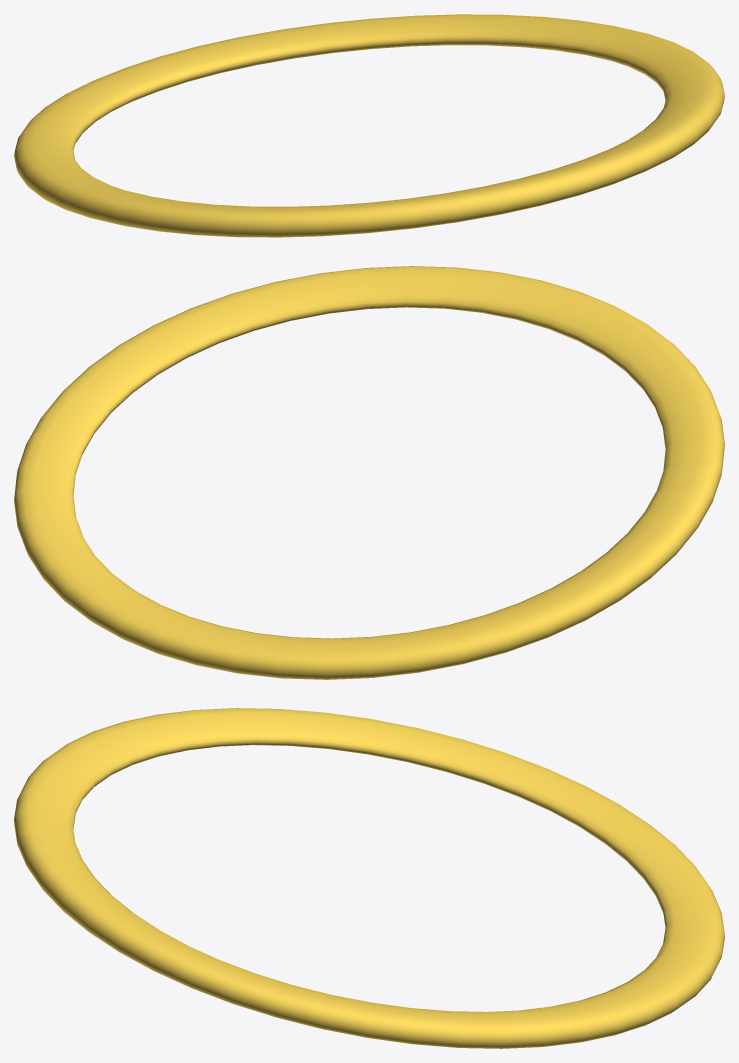
The model's file is Planet_Acc_Ring.fbx.
The picture shows the model from 3 angles, top to bottom: view 1: azimuth 30°, elevation 25°; view 2: azimuth 150°, elevation 25°; view 3: azimuth 270°, elevation 25°; orthographic projection.
Parts seen in each view (by area): view 1: Ring; view 2: Ring; view 3: Ring.
Boxes of the visible parts, box(x1,y1,x2,y2) form: Ring: box(14, 14, 724, 237); Ring: box(14, 266, 724, 679); Ring: box(14, 708, 724, 1048).
Size of the model in its own units: 3.27 by 0.6859 by 3.22.
